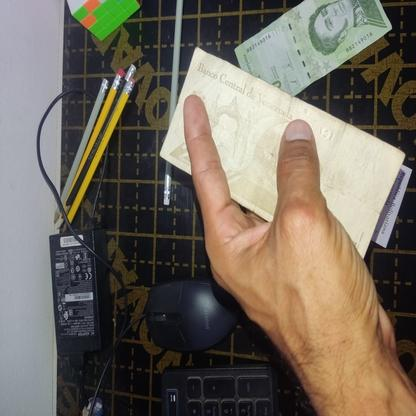vef_back: (159, 47, 405, 259)
vef_front: (233, 1, 392, 96)
